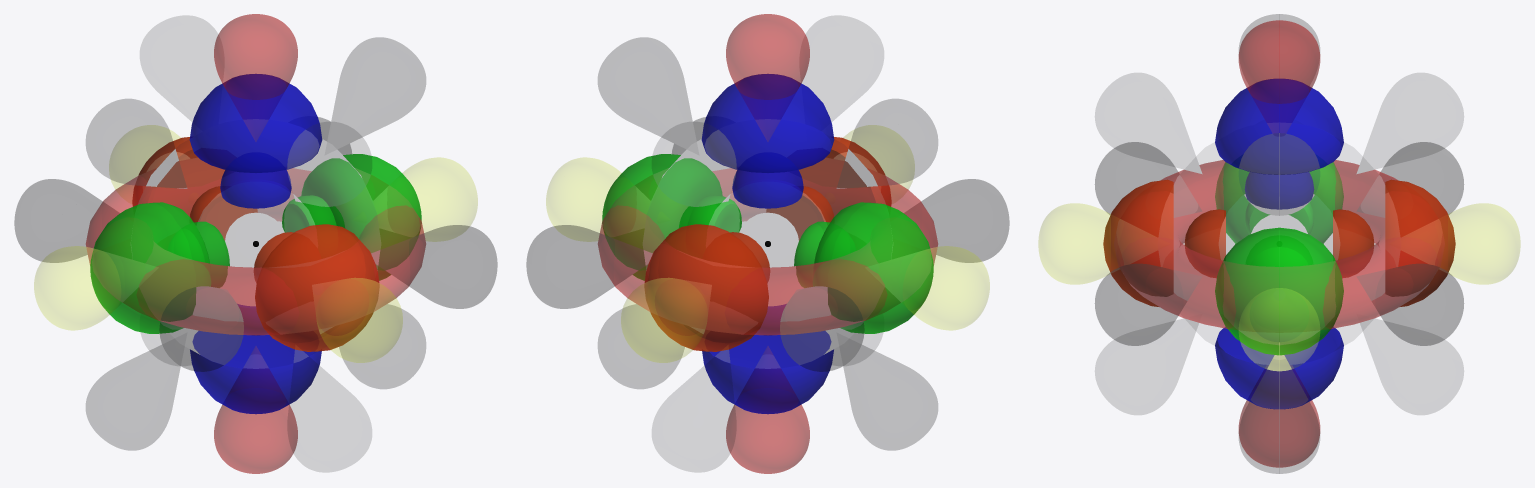
Rendered from Orbitals.fbx.
3 views of the same model, side by side, from view 1: azimuth 30°, elevation 25°; view 2: azimuth 150°, elevation 25°; view 3: azimuth 270°, elevation 25° (orthographic). The views are drawn at different scales.
Parts seen in each view (by area): view 1: Torus, Sphere_1_3, Sphere_1, Sphere_0_2, Sphere_0, Sphere_1_2, Cone_2_4, Cone_0_5, Cone_2, Cone_0_4, Cone_1, Cone_1_5 (+17 smaller); view 2: Torus, Sphere_0_3, Sphere_1, Sphere_0_2, Sphere_0, Sphere_1_2, Cone_2_4, Cone_0_5, Cone_3, Cone_3_3, Cone_1, Cone_1_5 (+17 smaller); view 3: Torus, Sphere_0, Sphere_0_2, Sphere_0_3, Sphere_1_3, Cone_1_4, Cone_2_3, Cone_3_4, Cone_1, Sphere_1_2, Cone_2, Cone_3 (+16 smaller).
Part boxes in pixels (box(x1,y1,x2,y2)): Torus: box(86, 168, 425, 335); Sphere_1_3: box(255, 224, 379, 351); Sphere_1: box(90, 202, 210, 333); Sphere_0_2: box(189, 74, 322, 172); Sphere_0: box(301, 154, 421, 280); Sphere_1_2: box(190, 331, 321, 414); Cone_2_4: box(327, 37, 425, 148); Cone_0_5: box(86, 339, 183, 450); Cone_2: box(372, 225, 497, 308); Cone_0_4: box(288, 350, 371, 471); Cone_1: box(214, 14, 297, 140); Cone_1_5: box(86, 99, 186, 188); Torus: box(598, 168, 937, 335); Sphere_0_3: box(644, 224, 768, 351); Sphere_1: box(813, 202, 933, 333); Sphere_0_2: box(701, 74, 834, 172); Sphere_0: box(602, 154, 722, 280); Sphere_1_2: box(702, 331, 833, 414); Cone_2_4: box(598, 37, 696, 148); Cone_0_5: box(840, 339, 937, 450); Cone_3: box(526, 225, 651, 308); Cone_3_3: box(652, 350, 735, 471); Cone_1: box(726, 14, 809, 140); Cone_1_5: box(837, 99, 937, 188); Torus: box(1114, 160, 1444, 329); Sphere_0: box(1215, 227, 1343, 355); Sphere_0_2: box(1215, 78, 1343, 174); Sphere_0_3: box(1385, 179, 1455, 306); Sphere_1_3: box(1103, 179, 1173, 306); Cone_1_4: box(1095, 73, 1201, 173); Cone_2_3: box(1357, 73, 1463, 173); Cone_3_4: box(1239, 359, 1319, 473); Cone_1: box(1238, 20, 1320, 133); Sphere_1_2: box(1215, 327, 1343, 409); Cone_2: box(1095, 264, 1201, 345); Cone_3: box(1357, 264, 1463, 345).
Size of the model in its own units: 790 by 790 by 790.
